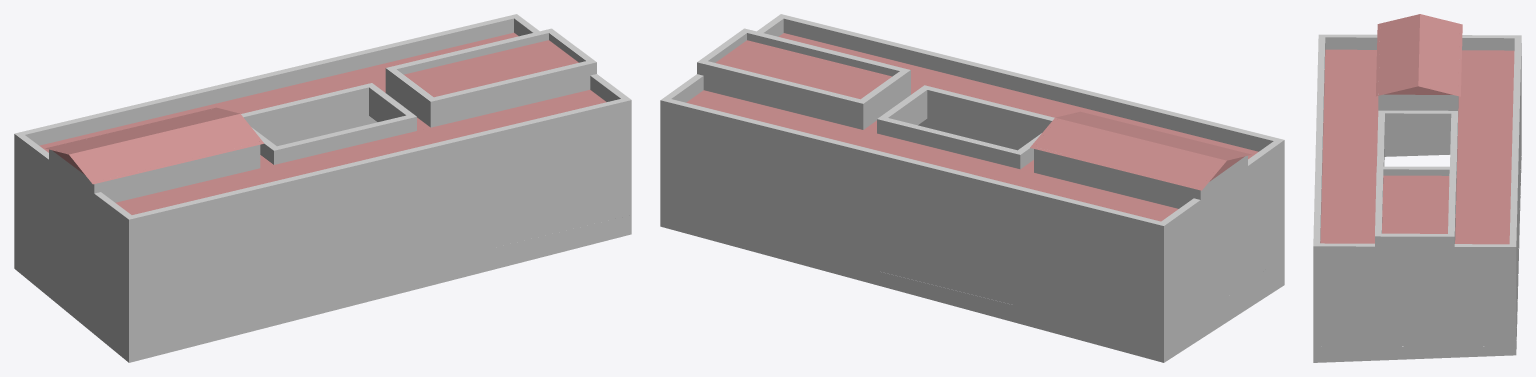
The model's file is LOD_Block_3_51.glb.
The picture shows the model from 3 angles, left to right: view 1: azimuth 30°, elevation 25°; view 2: azimuth 150°, elevation 25°; view 3: azimuth 270°, elevation 25°; orthographic projection. The views are drawn at different scales.
Visible parts, largest first — view 1: mesh_CityEngineMaterial_928; view 2: mesh_CityEngineMaterial_928; view 3: mesh_CityEngineMaterial_928.
Boxes of the visible parts, left/top/right/bottom form: mesh_CityEngineMaterial_928: left=14, top=14, right=631, bottom=362; mesh_CityEngineMaterial_928: left=660, top=14, right=1284, bottom=362; mesh_CityEngineMaterial_928: left=1313, top=14, right=1521, bottom=362.
Bounding box in the file's own units: 37.16 × 11.7 × 15.32.
